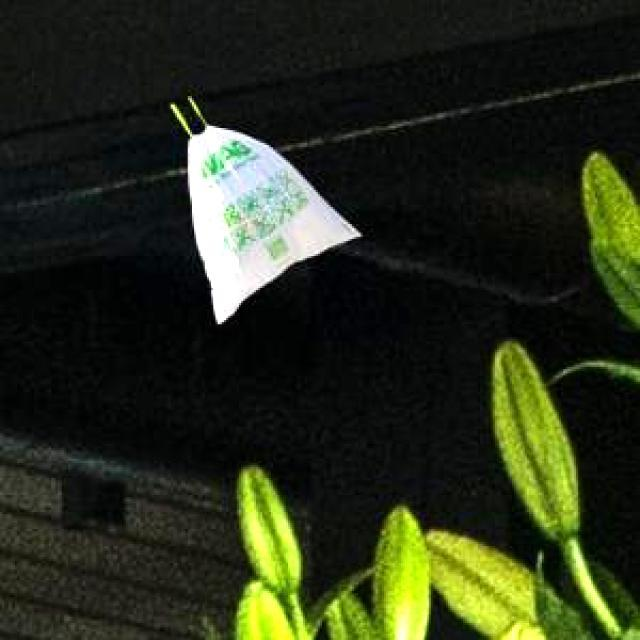Plastic_Bag: (185, 122, 358, 322)
